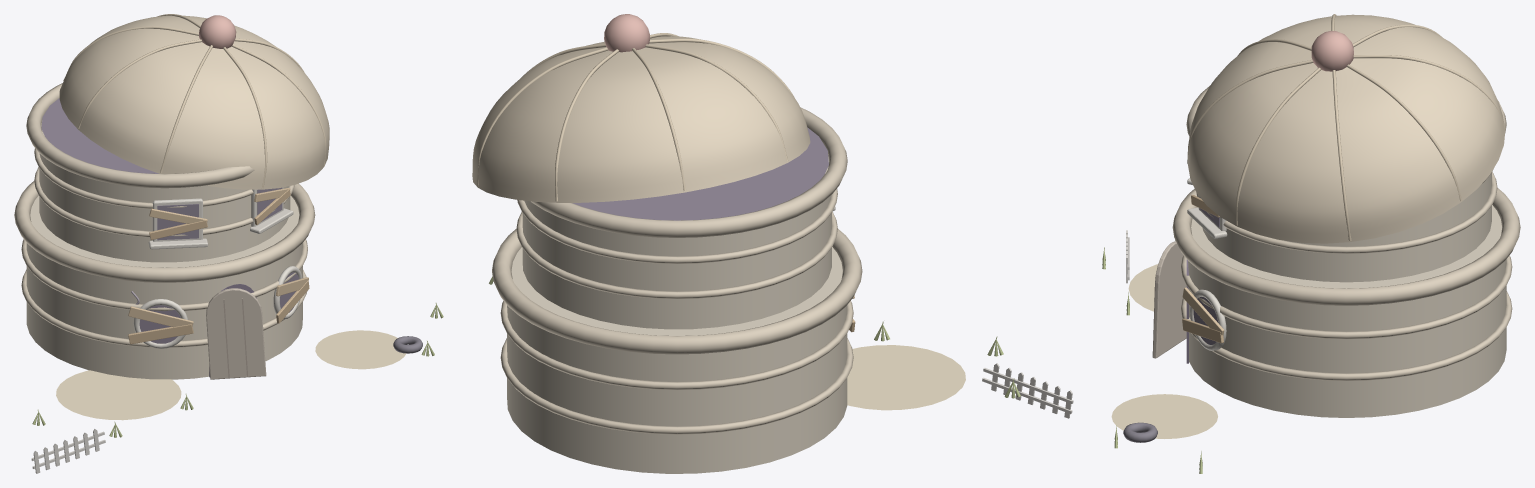
File: building_dumpling_L01.glb
3 renders of one model, left to right at view 1: azimuth 30°, elevation 25°; view 2: azimuth 150°, elevation 25°; view 3: azimuth 270°, elevation 25°, orthographic. The views are drawn at different scales.
Parts seen in each view (by area): view 1: Body, dumpling_L1; view 2: Body, dumpling_L1; view 3: Body, dumpling_L1.
Boxes of the visible parts, x1,y1,x2,y2 form: Body: [14, 14, 329, 379]; dumpling_L1: [31, 303, 443, 473]; Body: [472, 14, 862, 473]; dumpling_L1: [489, 276, 1073, 418]; Body: [1152, 14, 1520, 417]; dumpling_L1: [1102, 230, 1217, 473].
Size of the model in its own units: 24.39 by 17.15 by 17.26.
